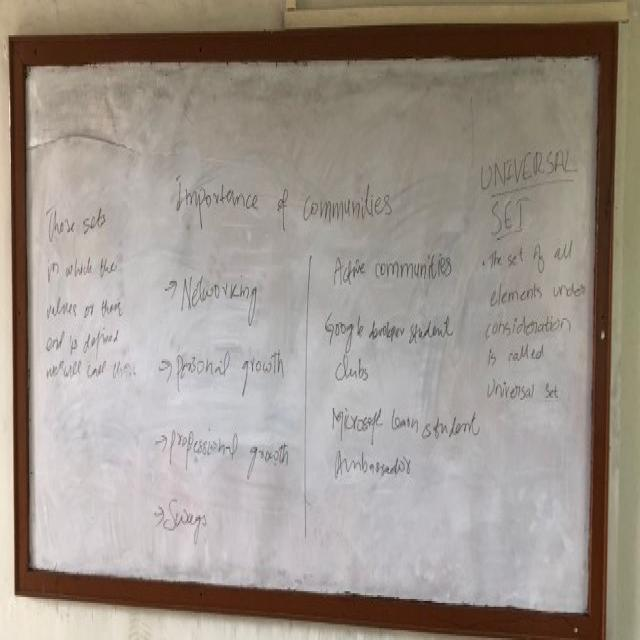White-board: (17, 46, 608, 640)
